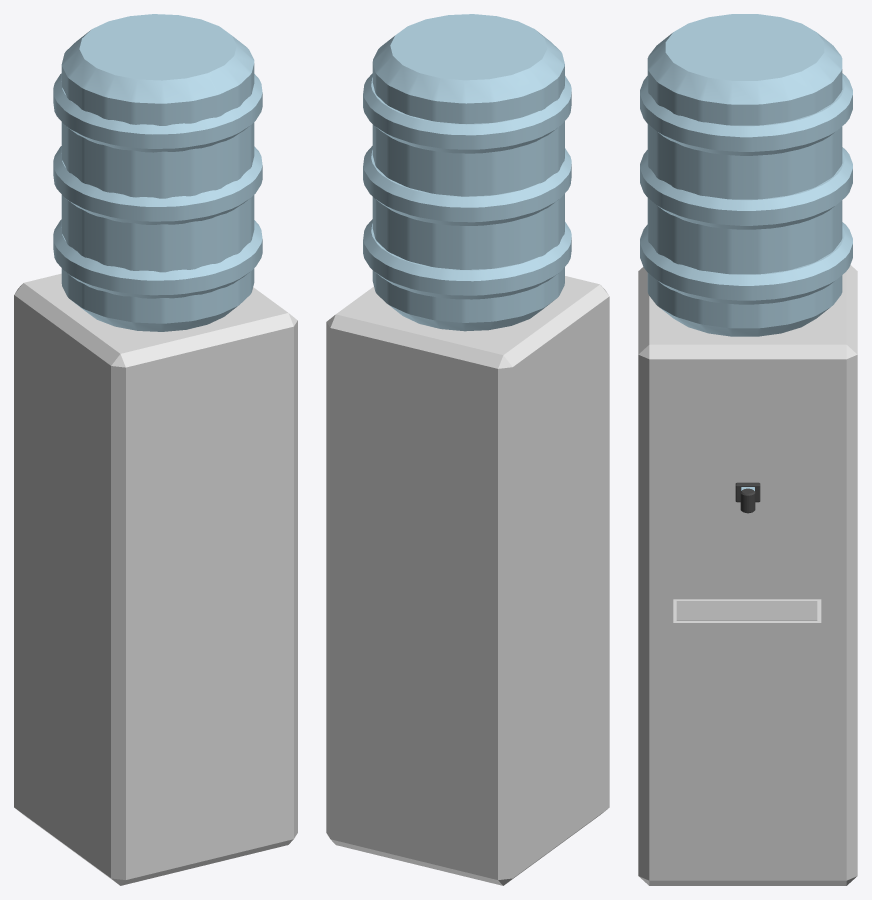
The model's file is Water Fountain.fbx.
3 views of the same model, side by side, from view 1: azimuth 30°, elevation 25°; view 2: azimuth 150°, elevation 25°; view 3: azimuth 270°, elevation 25° (orthographic).
Parts seen in each view (by area): view 1: pCube14, pCylinder9, pCylinder10, pasted__pCylinder10, pasted__pasted__pCylinder10; view 2: pCube14, pCylinder9, pasted__pasted__pCylinder10, pCylinder10, pasted__pCylinder10; view 3: pCube14, pCylinder9, pasted__pasted__pCylinder10, pCylinder10, pasted__pCylinder10, pCube15.
Boxes of the visible parts, x1,y1,x2,y2 form: pCube14: (14, 273, 297, 885); pCylinder9: (61, 14, 254, 331); pCylinder10: (53, 219, 262, 298); pasted__pCylinder10: (53, 146, 262, 224); pasted__pasted__pCylinder10: (53, 73, 262, 152); pCube14: (326, 276, 609, 885); pCylinder9: (372, 14, 564, 331); pasted__pasted__pCylinder10: (363, 73, 571, 153); pCylinder10: (363, 219, 571, 299); pasted__pCylinder10: (363, 146, 571, 225); pCube14: (638, 265, 857, 885); pCylinder9: (647, 14, 842, 336); pasted__pasted__pCylinder10: (640, 73, 852, 155); pCylinder10: (640, 222, 852, 304); pasted__pCylinder10: (640, 147, 852, 229); pCube15: (676, 601, 817, 620).
Size of the model in its own units: 2.6 by 10.43 by 2.6.
